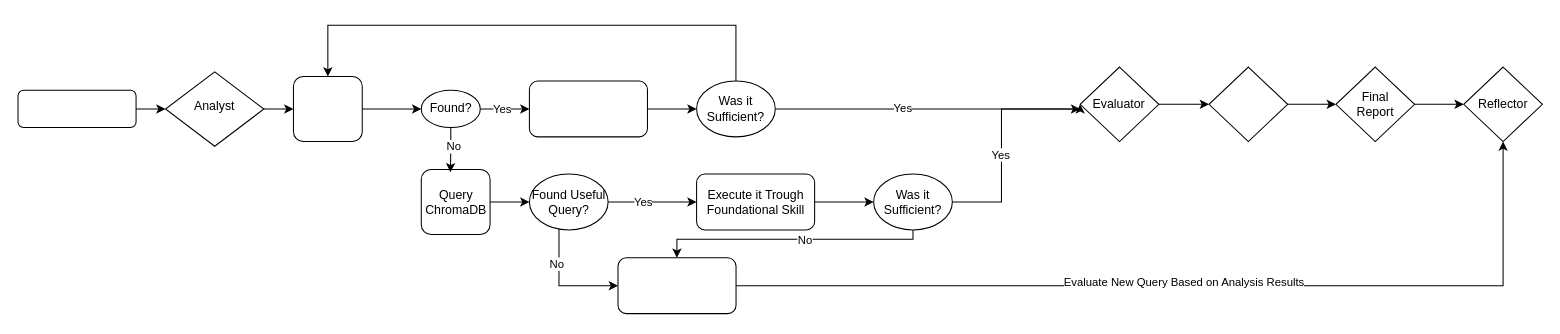
Some shapes in this 1560 by 334 pixel diagram are drawn without their labels. The shapes that lost their labels are listed below. From the top down, each one's centre as x and y in pixels, then its label:
At pixel 76 108: "Wazuh Alert + Custom Prompt".
At pixel 327 108: "Search for a Useful Skill".
At pixel 587 108: "Execute it and Analyze the Output".
At pixel 1248 104: "Formatter".
At pixel 676 285: "Modify Existing Query or Create a New One".
